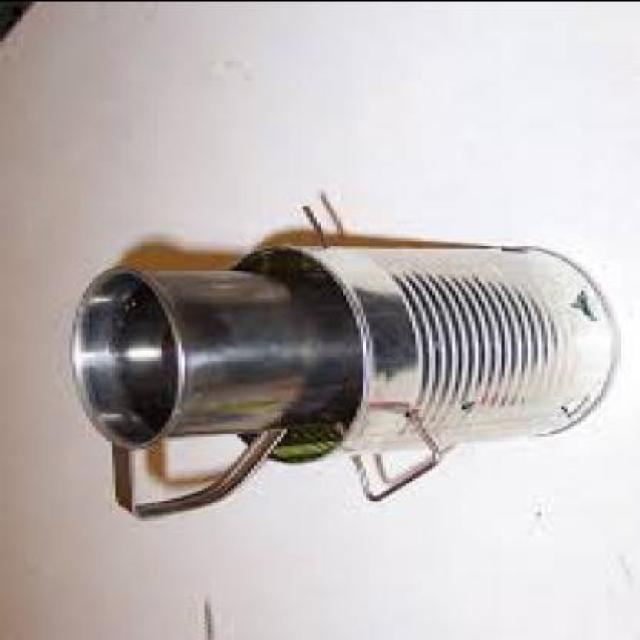METAL: (221, 240, 607, 497), (70, 259, 359, 515)
